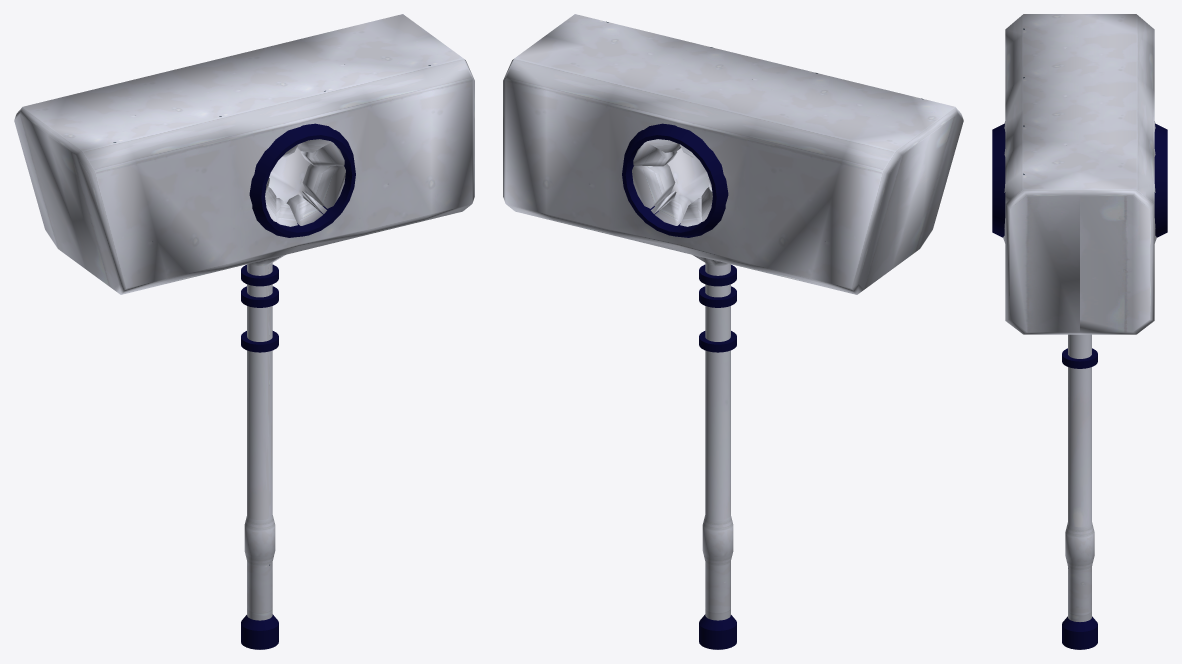
The model's file is equipBrotherWeapon.fbx.
3 views of the same model, side by side, from view 1: azimuth 30°, elevation 25°; view 2: azimuth 150°, elevation 25°; view 3: azimuth 270°, elevation 25° (orthographic). The views are drawn at different scales.
Parts seen in each view (by area): view 1: BrotherHammerConcrete, BrotherHammerStib; view 2: BrotherHammerConcrete, BrotherHammerStib; view 3: BrotherHammerConcrete, BrotherHammerStib.
Part boxes in pixels (bbox=[...]): BrotherHammerConcrete: bbox=[14, 14, 474, 649]; BrotherHammerStib: bbox=[241, 123, 355, 649]; BrotherHammerConcrete: bbox=[503, 14, 963, 649]; BrotherHammerStib: bbox=[622, 123, 736, 649]; BrotherHammerConcrete: bbox=[1003, 14, 1156, 649]; BrotherHammerStib: bbox=[992, 123, 1167, 649].
Size of the model in its own units: 1.09 by 1.52 by 0.4497.
2 materials, 1 textured.
